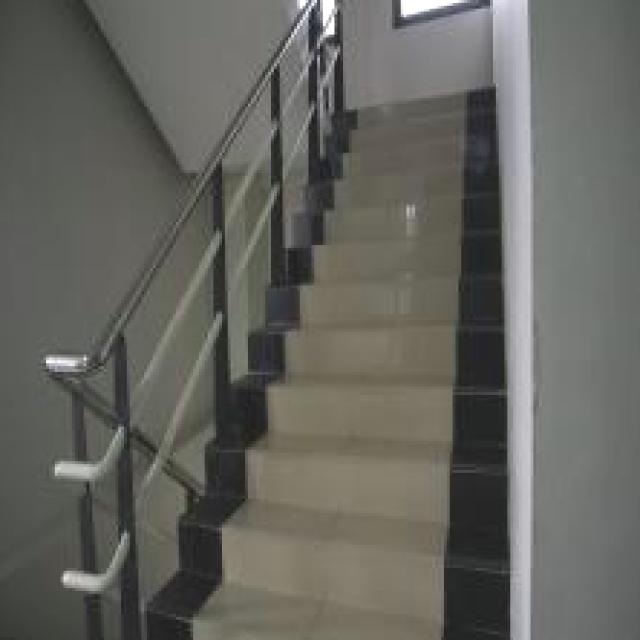upstair: (303, 110, 499, 640)
